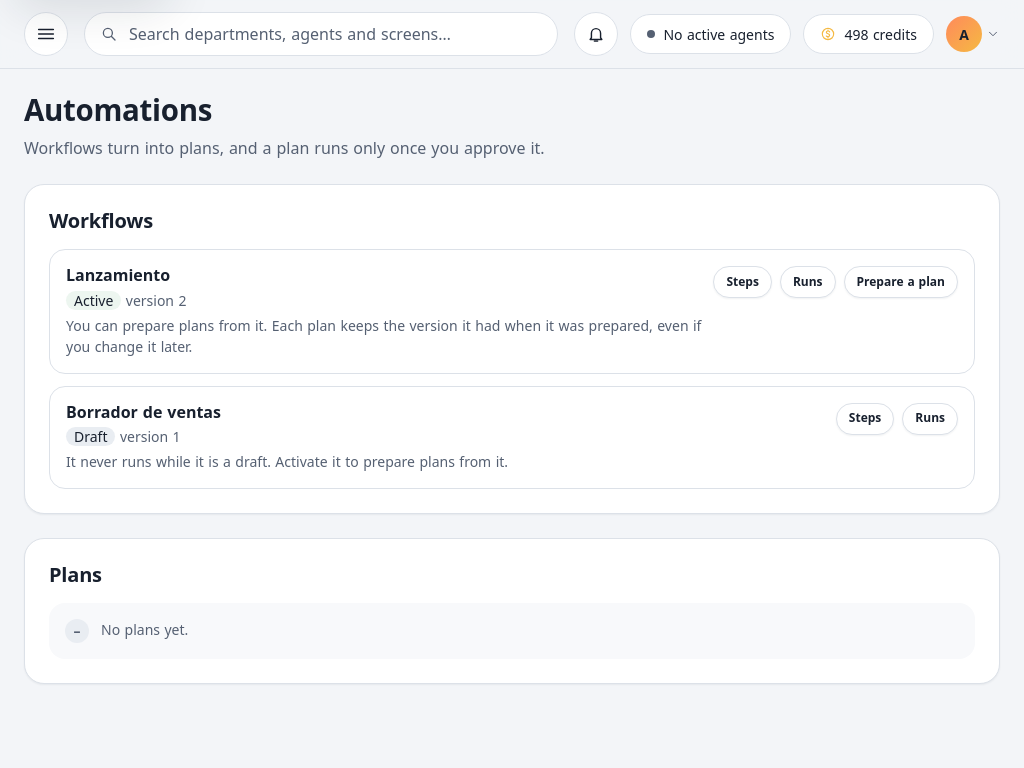
Test case: Automations (WF-3) › plans an active workflow once, shows the plan waiting, and approves that exact version
The width and height of the screenshot is (1024, 768).
Check: the heading "Automations" is shown, box [24,90,212,130]
Check: the text "Lanzamiento" is shown, box [66,264,170,286]
Click the button "Prepare a plan" at (901, 282), box [844,266,958,298]
(page scrolled)
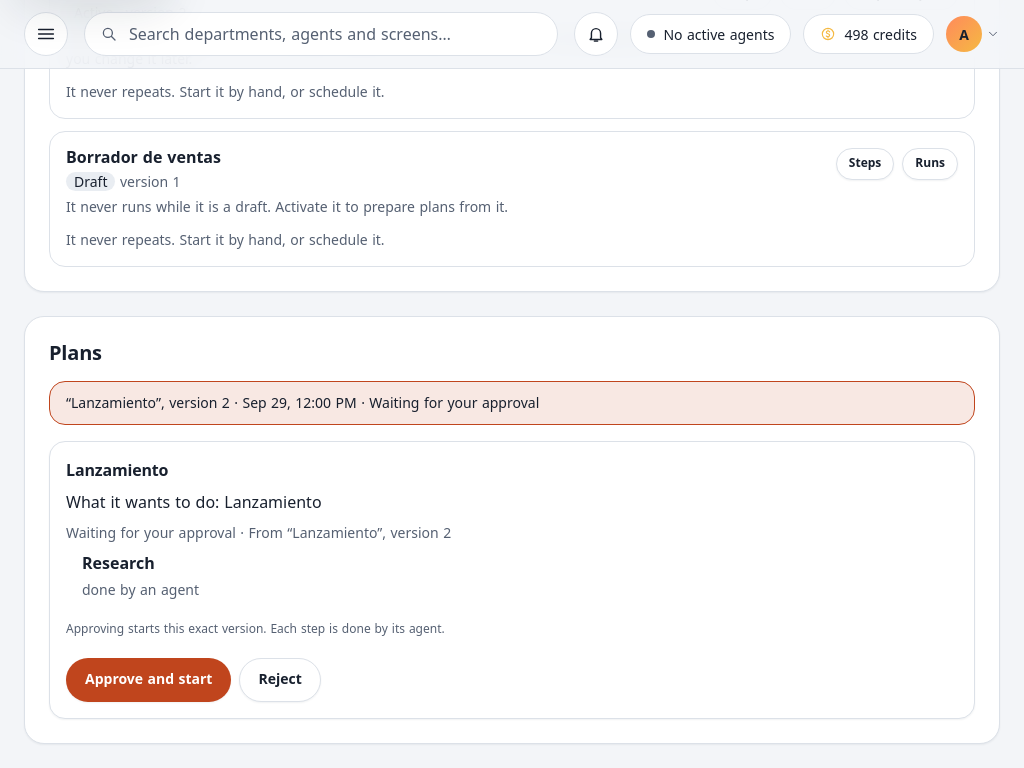
Check: the text "Waiting for your approval · From “Lanzamiento”, version 2" is shown, box [66,523,451,542]
Check: the text "Research" is shown, box [82,552,155,574]
Click the button "Approve and start" at (149, 680), box [66,658,231,702]
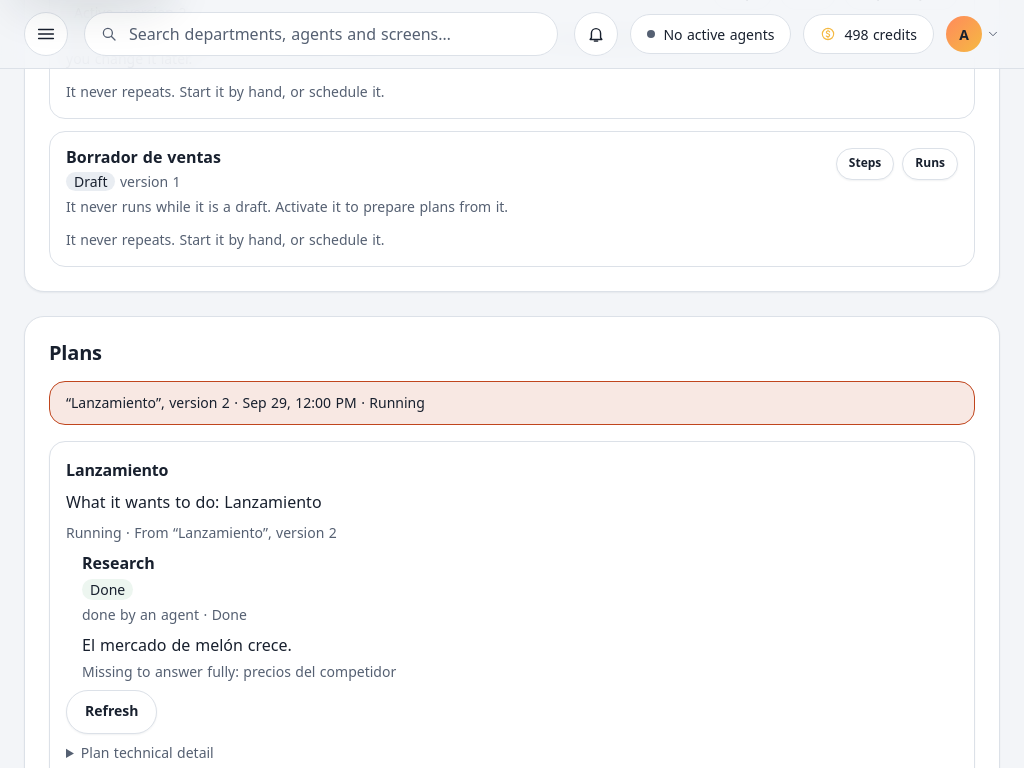
Check: the text "El mercado de melón crece." is shown, box [82,634,292,656]
Check: the text "Missing to answer fully: precios del competidor" is shown, box [82,662,396,681]
Check: the text "Running · From “Lanzamiento”, version 2" is shown, box [66,523,337,542]
